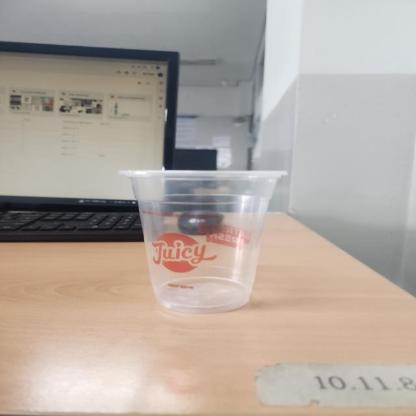Plastic Cup: (120, 169, 290, 311)
